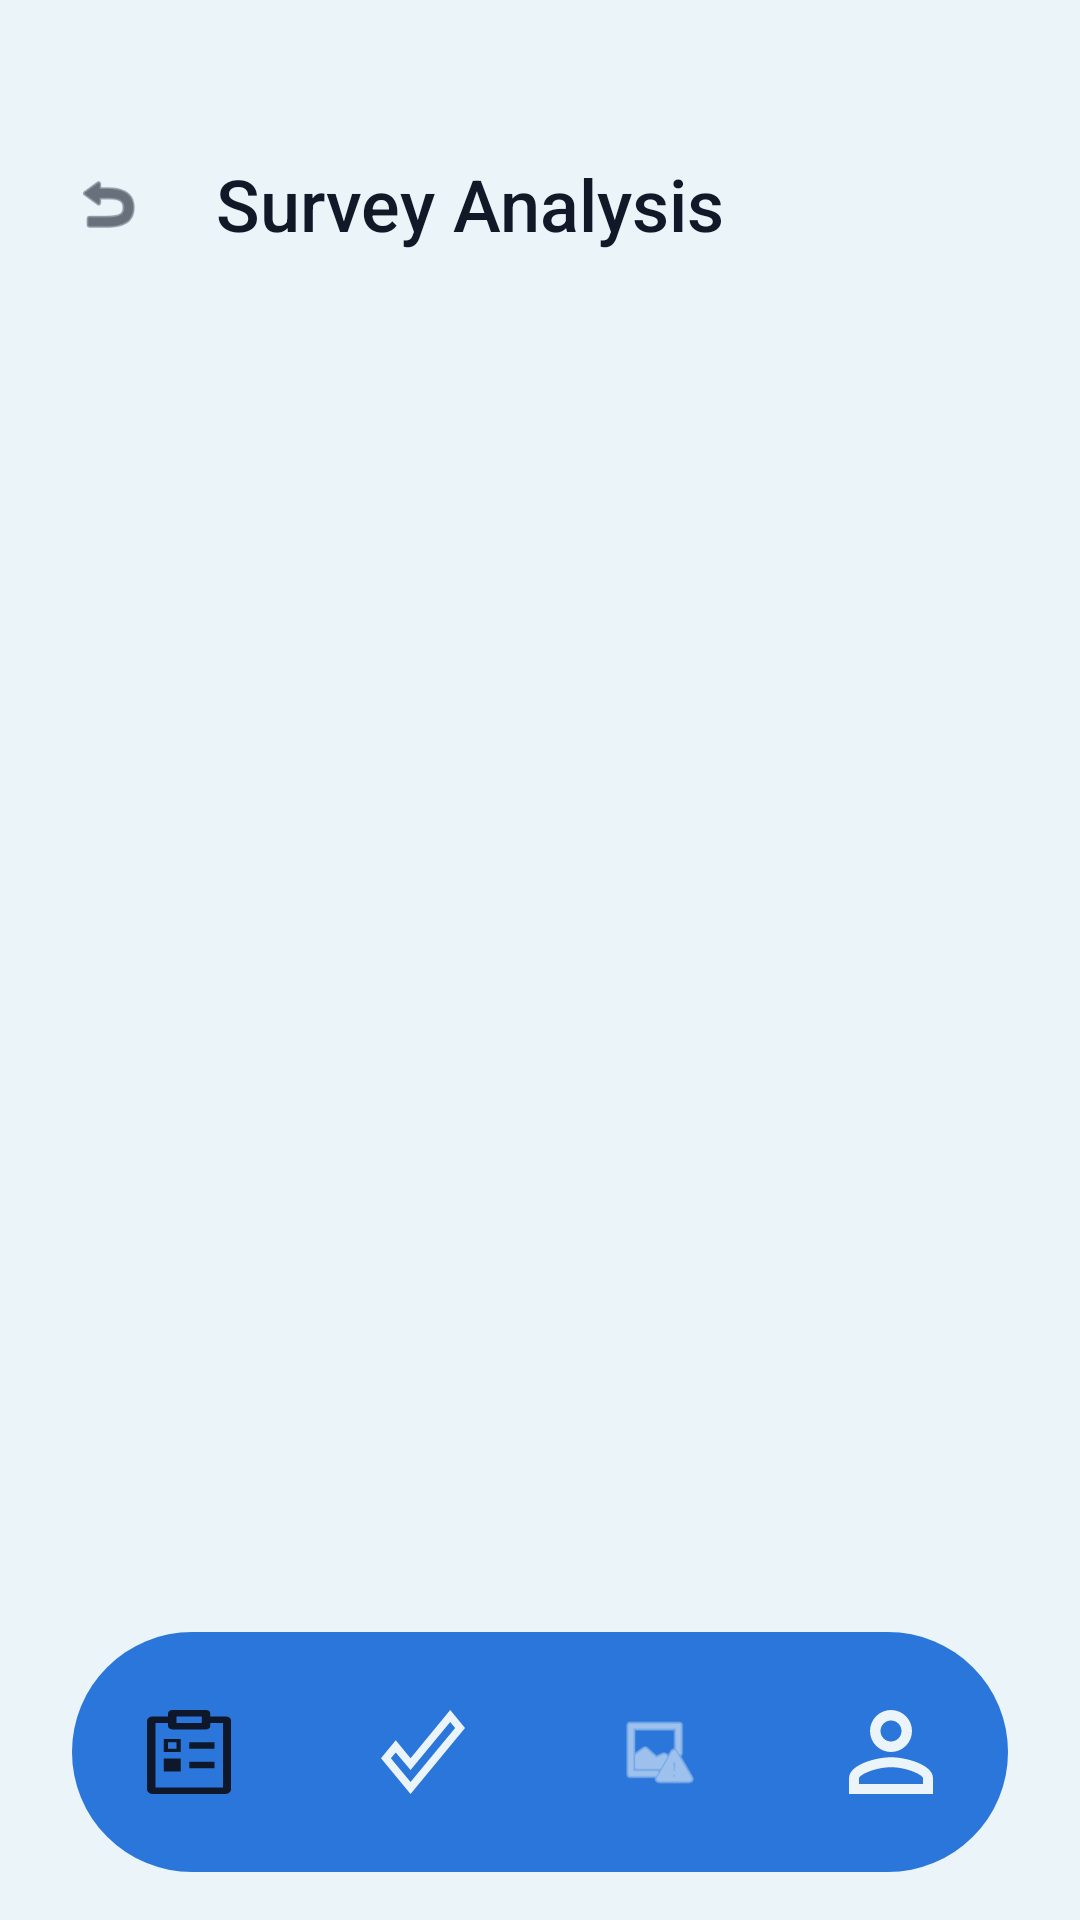

Where icons sit on this 1080w x 1920h app screen, as (x1, y1, x2, y2):
revert: (83, 181, 135, 228)
